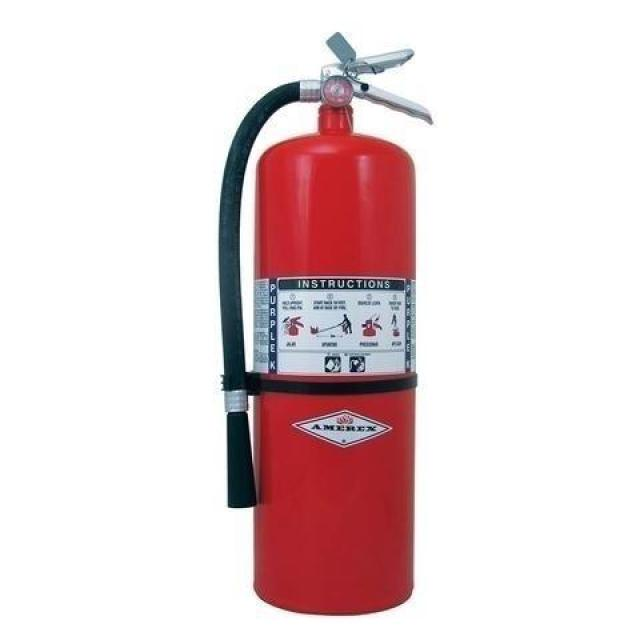fire_extinguisher: (213, 27, 435, 621)
